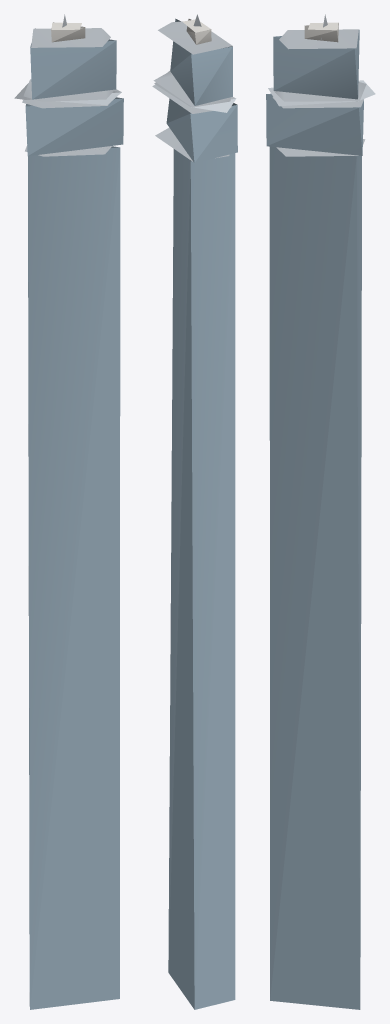
File: tower_05_lod1.glb
3 renders of one model, left to right at view 1: azimuth 90°, elevation 25°; view 2: azimuth 210°, elevation 25°; view 3: azimuth 270°, elevation 25°, orthographic.
Visible parts, largest first — view 1: tower_05_lod1; view 2: tower_05_lod1; view 3: tower_05_lod1.
Boxes of the visible parts, box(x1,y1,x2,y2) form: tower_05_lod1: box(14, 14, 123, 1009); tower_05_lod1: box(152, 14, 237, 1009); tower_05_lod1: box(266, 14, 375, 1009).
Bounding box in the file's own units: 16.88 × 323 × 32.59.
